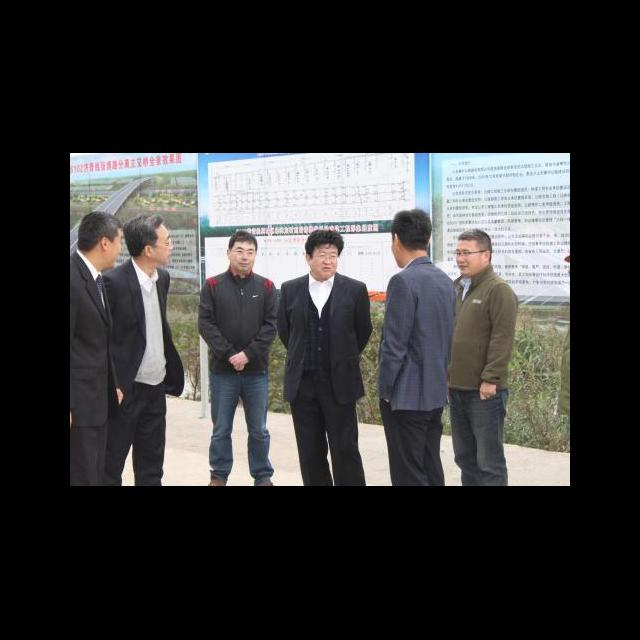NO-Hardhat: (121, 215, 166, 240), (81, 213, 123, 238), (394, 210, 434, 235), (306, 229, 342, 249), (457, 231, 493, 250), (227, 231, 257, 246)
NO-Mask: (99, 246, 121, 270), (312, 264, 336, 279), (230, 259, 254, 274), (150, 251, 171, 265), (459, 262, 481, 275), (390, 248, 404, 268)
NO-Safety Vest: (286, 278, 358, 398), (394, 265, 451, 411), (108, 266, 169, 388), (70, 258, 111, 428), (210, 275, 268, 369), (453, 277, 500, 392)
Person: (278, 228, 372, 486), (381, 209, 457, 486), (197, 231, 278, 486), (446, 229, 518, 486), (102, 214, 170, 486), (70, 209, 124, 486)
